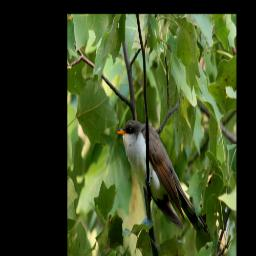Cuckoo: (118, 115, 211, 235)
